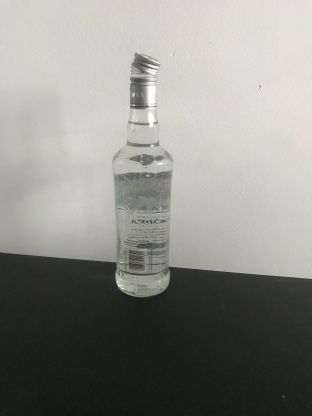nakretka: (128, 49, 162, 110)
